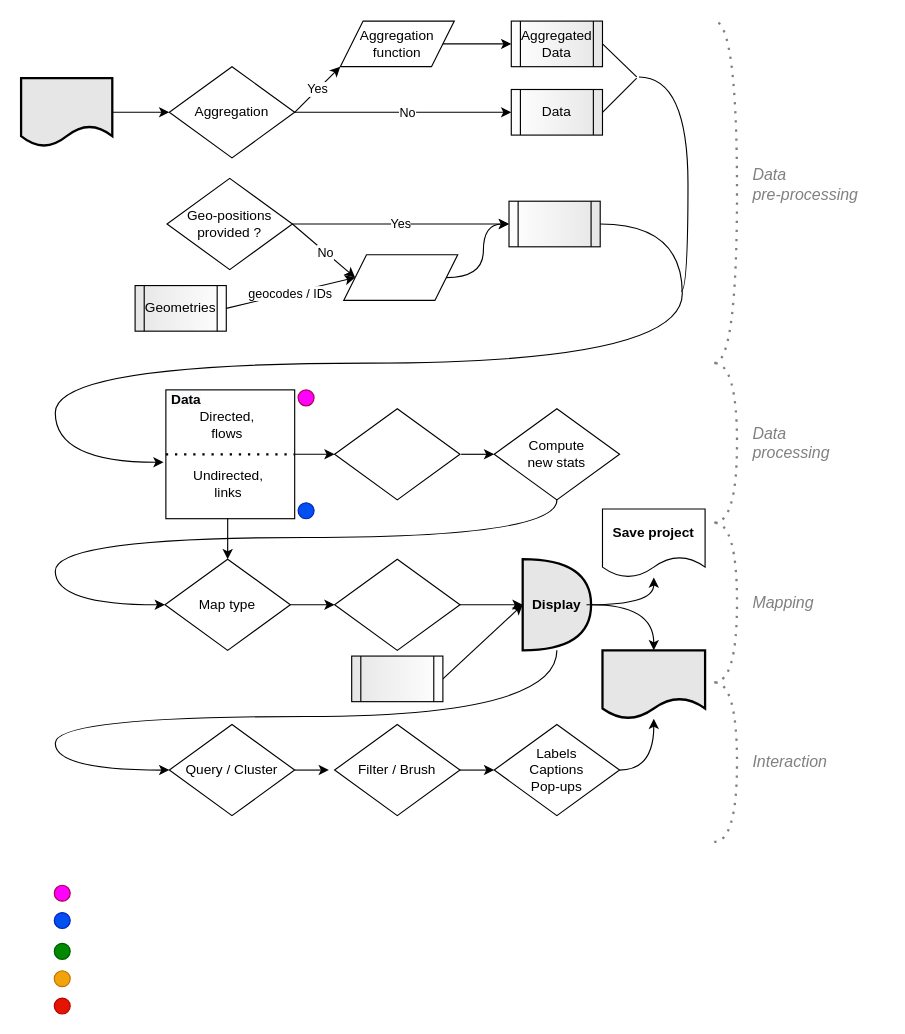
Image size: 905x1034. Some labels were removed from this diagram. Here are the shapes that lost their labels. From the top down, the box of each, then its label:
(19, 76, 113, 147): Source data
(508, 200, 600, 247): Georef. Data
(343, 254, 458, 300): Geo- referencing
(333, 408, 460, 500): Compute new values
(333, 558, 460, 650): Graphic style Flows
(351, 655, 443, 702): Base maps
(601, 649, 706, 719): Export Online hosting
